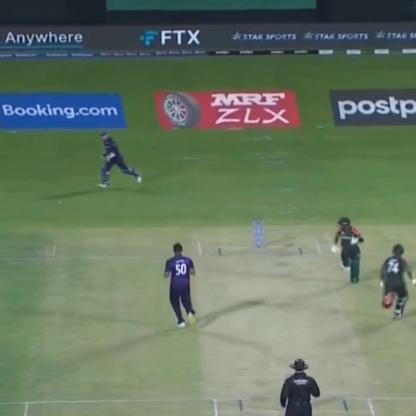pitch: (183, 234, 386, 414), (53, 197, 66, 209)
